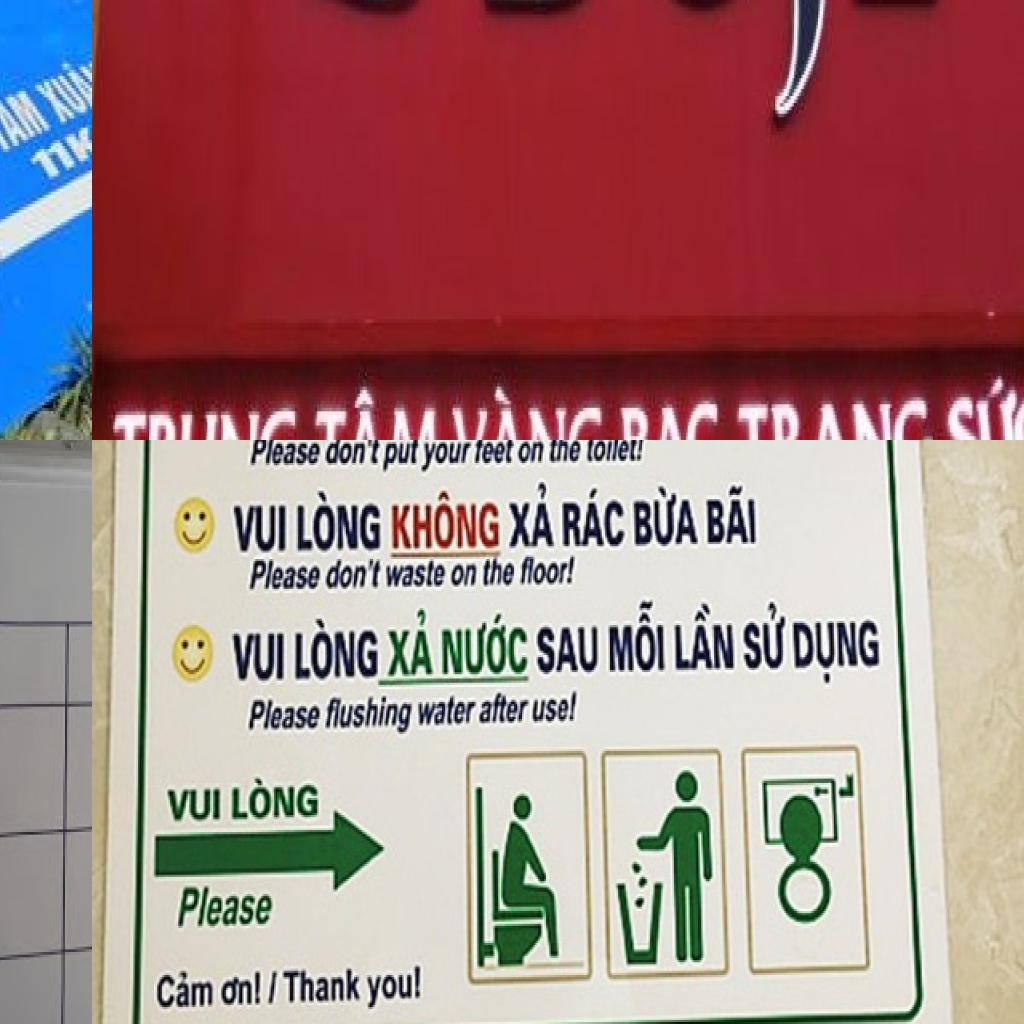text: (478, 0, 960, 142), (733, 386, 941, 440), (445, 383, 612, 440), (312, 376, 444, 440), (109, 400, 303, 440), (389, 486, 503, 552), (790, 617, 884, 689), (438, 610, 532, 679), (293, 614, 381, 685), (26, 39, 92, 133), (295, 488, 384, 557), (0, 63, 58, 164), (605, 593, 669, 676), (617, 393, 727, 440), (631, 480, 703, 551), (175, 884, 279, 932), (671, 600, 738, 674), (229, 774, 322, 824), (560, 484, 630, 550), (504, 476, 559, 552), (322, 694, 416, 738), (384, 604, 438, 680), (740, 593, 789, 674), (280, 964, 364, 1009), (704, 480, 759, 548), (533, 625, 602, 679), (230, 627, 288, 687), (229, 501, 290, 557), (245, 696, 325, 736), (154, 966, 216, 1014), (247, 557, 325, 595), (416, 691, 480, 730), (164, 785, 224, 826), (519, 553, 581, 591), (384, 557, 450, 591), (248, 440, 325, 469), (324, 557, 386, 593), (476, 689, 533, 728), (528, 687, 582, 728), (218, 966, 266, 1012), (419, 440, 475, 477), (320, 440, 385, 469), (584, 440, 648, 465), (381, 440, 421, 478), (471, 440, 519, 469), (480, 557, 519, 589), (545, 440, 584, 467), (448, 561, 480, 591), (264, 967, 284, 1009), (515, 440, 546, 467)
